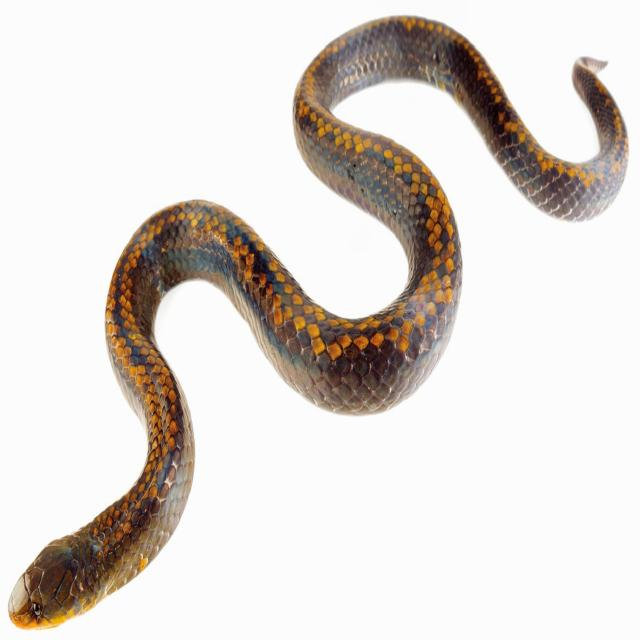snake: (9, 17, 628, 628)
